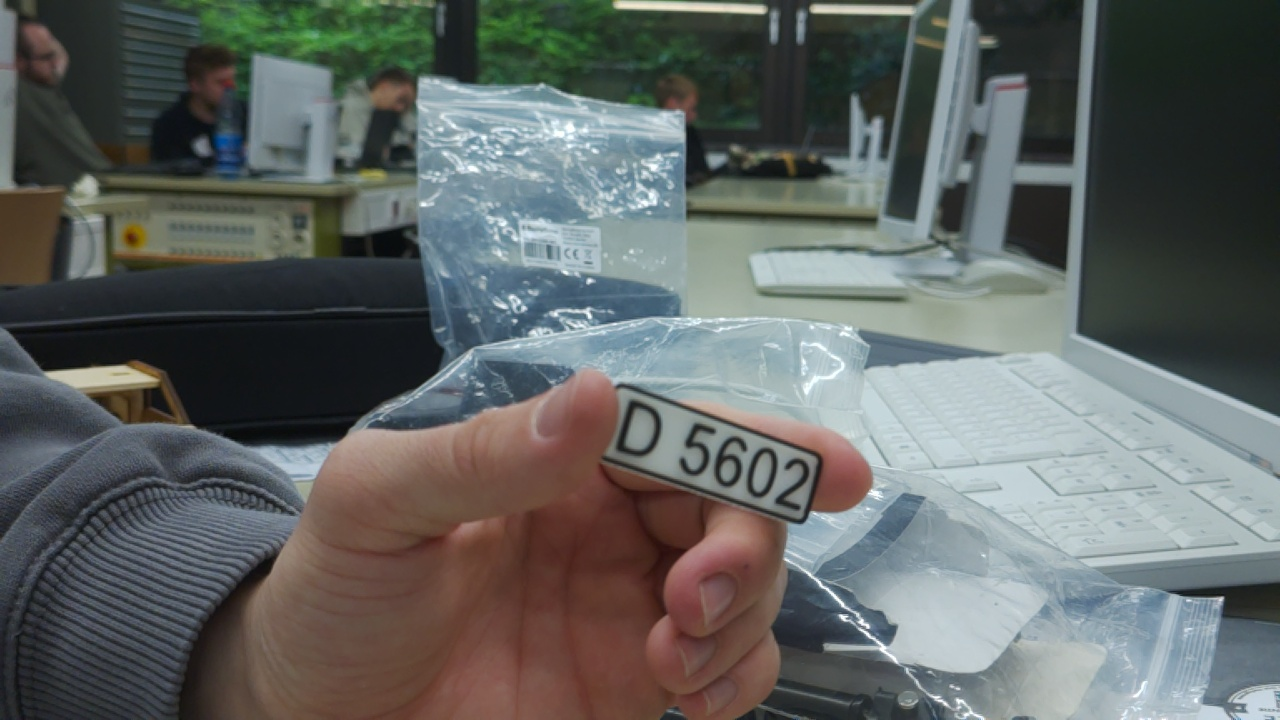license_plate: (583, 364, 824, 531)
